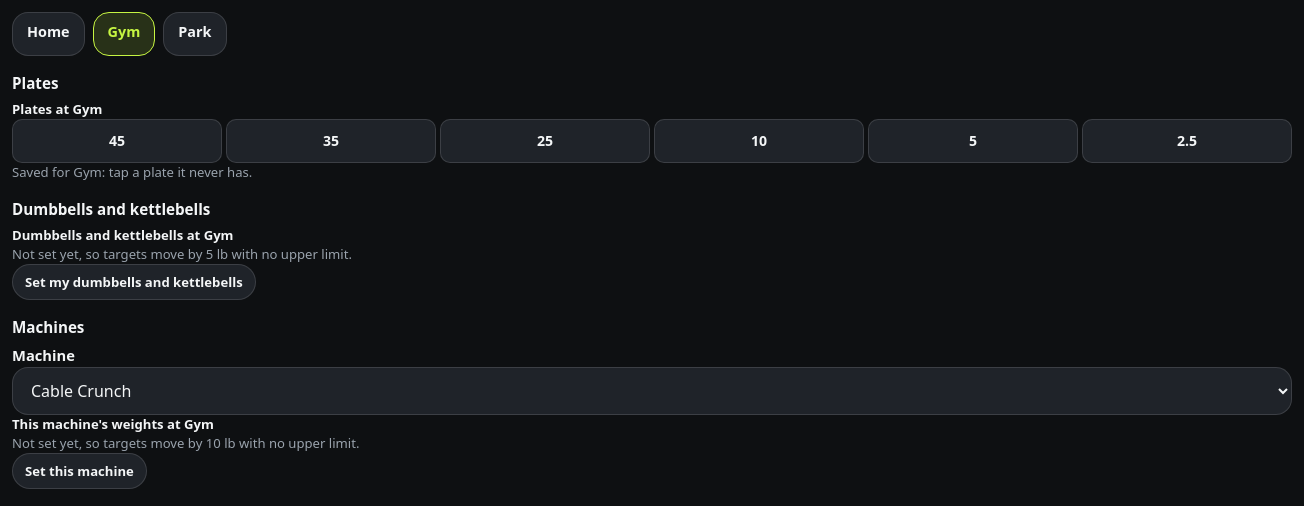
a lifter’s own move in Settings, at a place without the weights it names › a move saved with the bench chip alone puts no Dumbbells section at a place with none
Click the radio button labelled "Park".
click(195, 34)  # box top-left (163, 12), bottom-right (226, 56)
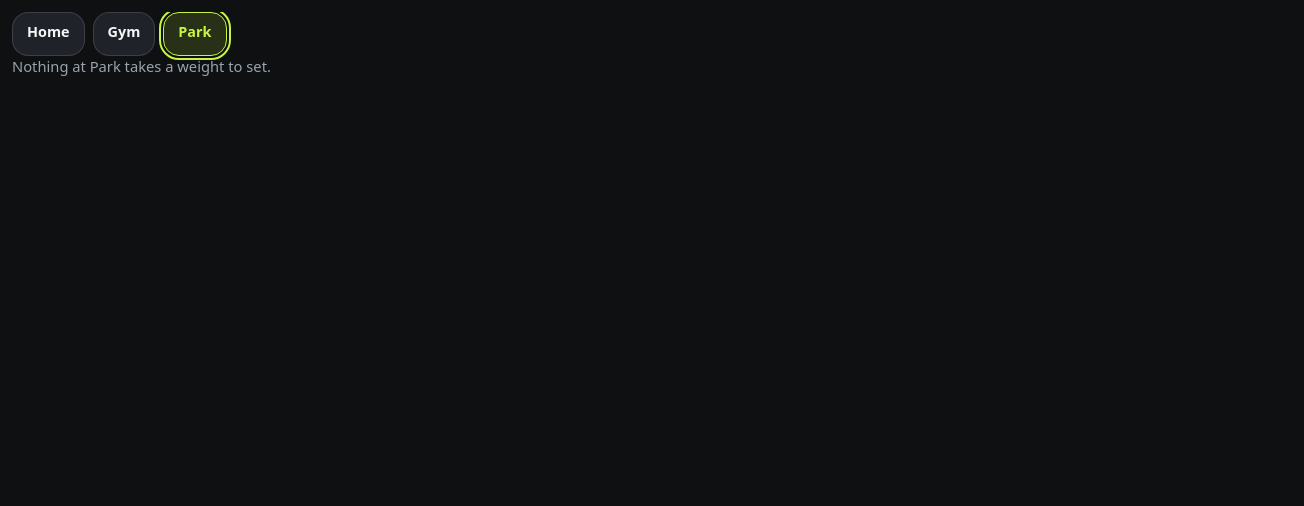
Check: the element with test id "place-weights-dumbbells" is gone
Check: the element with test id "place-weights" shows "Nothing at Park takes a weight to set.", box top-left (12, 12), bottom-right (271, 76)
